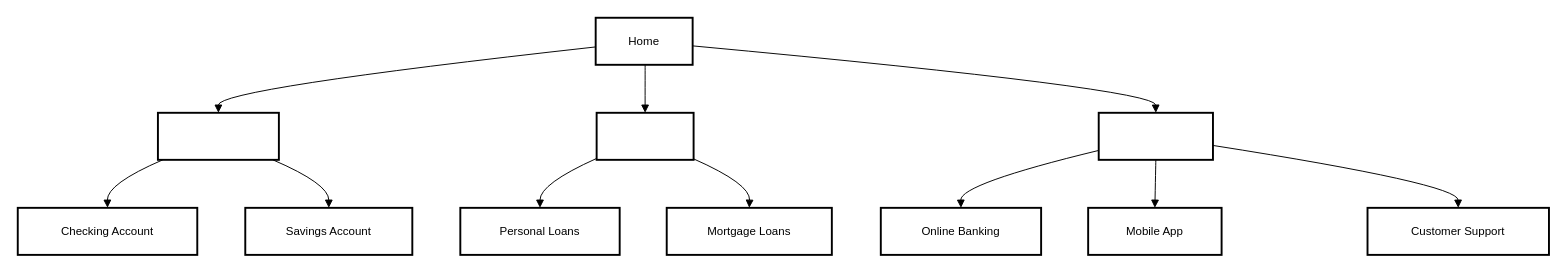
Some shapes in this 1566 by 272 pixel diagram are drawn without their labels. The shapes that lost their labels are listed below. From the top down, each one's centre as x and y in pixels, then its label:
At (x=217, y=135): "Accounts".
At (x=644, y=135): "Loans".
At (x=1155, y=135): "Services".
